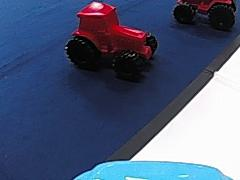Tracktor: (64, 1, 160, 78), (170, 0, 238, 28)
